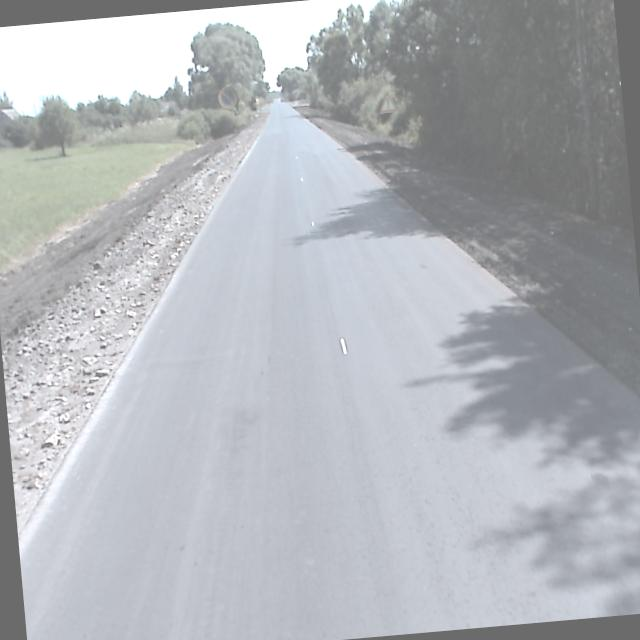road: (18, 100, 640, 640)
